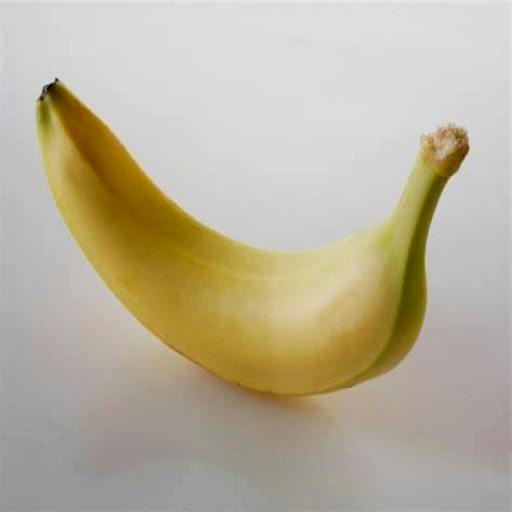fruit: (37, 81, 468, 395)
